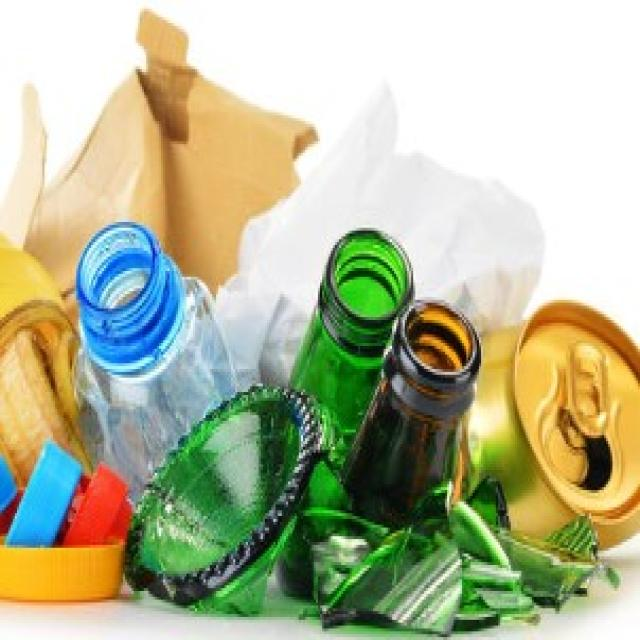electronic: (292, 220, 622, 635), (110, 379, 336, 623)
